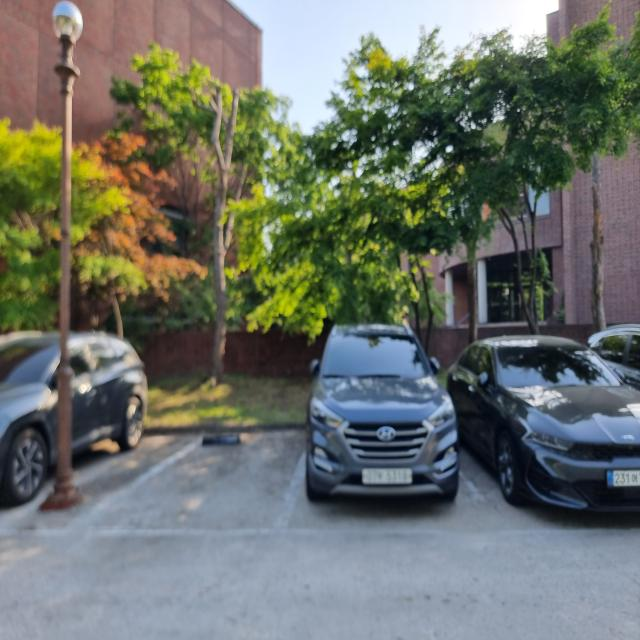empty: (72, 437, 314, 535)
occupied: (469, 326, 640, 527), (312, 309, 461, 516), (0, 330, 150, 501)
